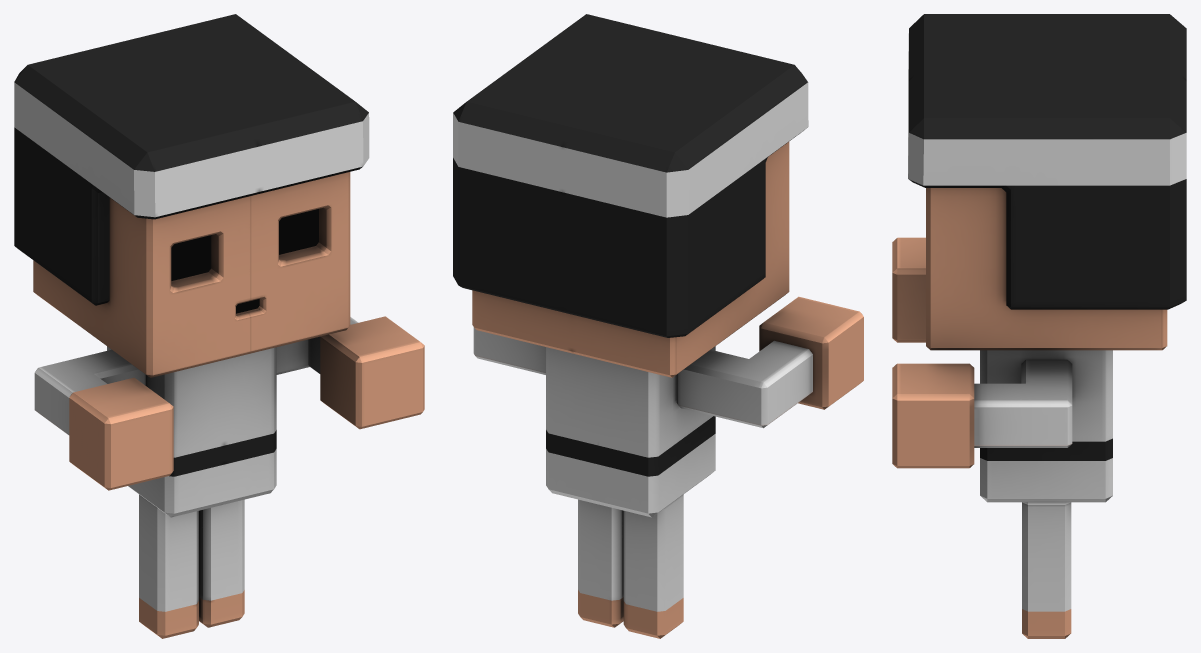
Rendered from Fighter.FBX.
The picture shows the model from 3 angles, left to right: view 1: azimuth 30°, elevation 25°; view 2: azimuth 150°, elevation 25°; view 3: azimuth 270°, elevation 25°; orthographic projection. The views are drawn at different scales.
Visible parts, largest first — view 1: Fighter; view 2: Fighter; view 3: Fighter.
Part boxes in pixels (x1,y1,x2,y2): Fighter: [14, 14, 424, 638]; Fighter: [453, 14, 863, 638]; Fighter: [892, 14, 1186, 638].
Bounding box in the file's own units: 7.86 × 12.65 × 6.09.
1 material, 1 textured.
